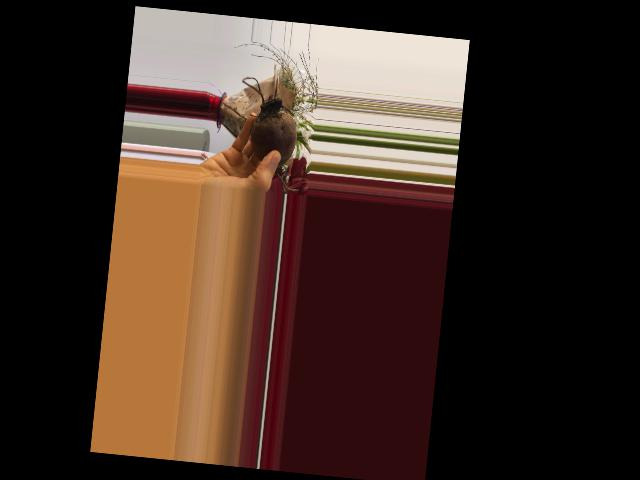beet: (231, 75, 309, 190)
